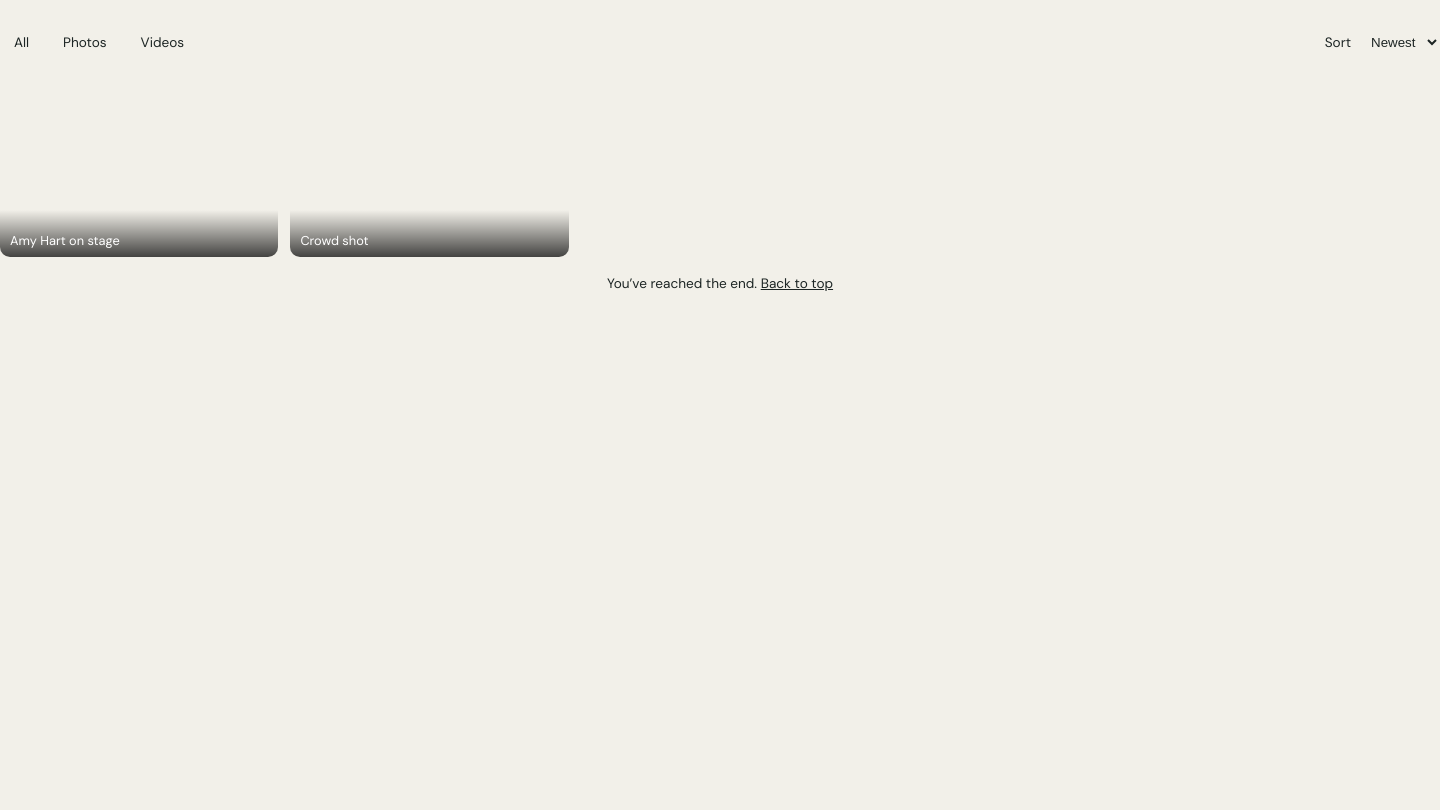
Test case: Lightbox (via MediaGallery) › shows Share + Download for photos, and disabled reactions/comments
Click the button with aria-label "Amy on stage photo": (139, 164) [0, 71, 278, 257]
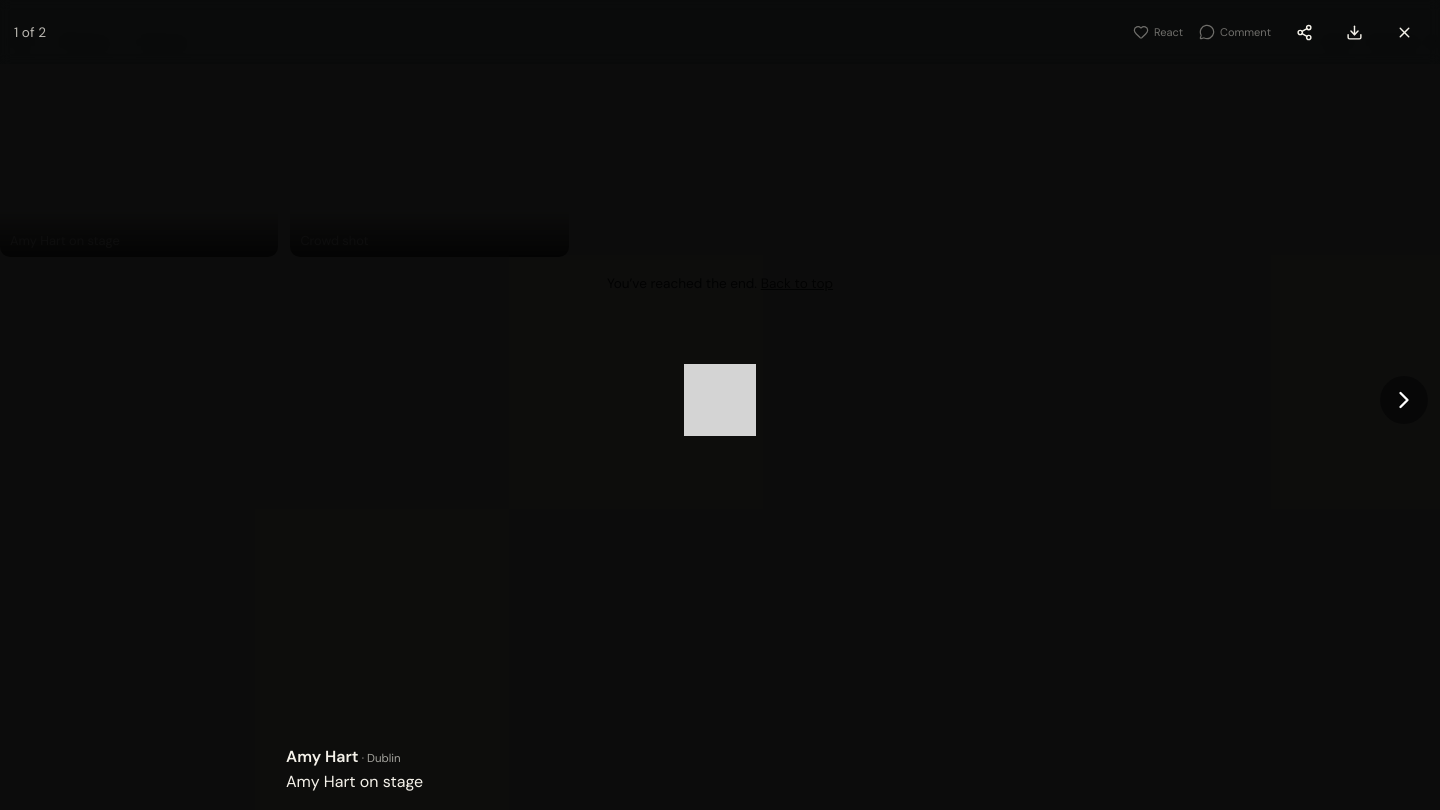
Expected: the button "React" is disabled, [1128, 19, 1188, 45]
Expected: the button "Comment" is disabled, [1194, 19, 1276, 45]
Click the button named "Share": (1304, 32) [1282, 10, 1326, 54]
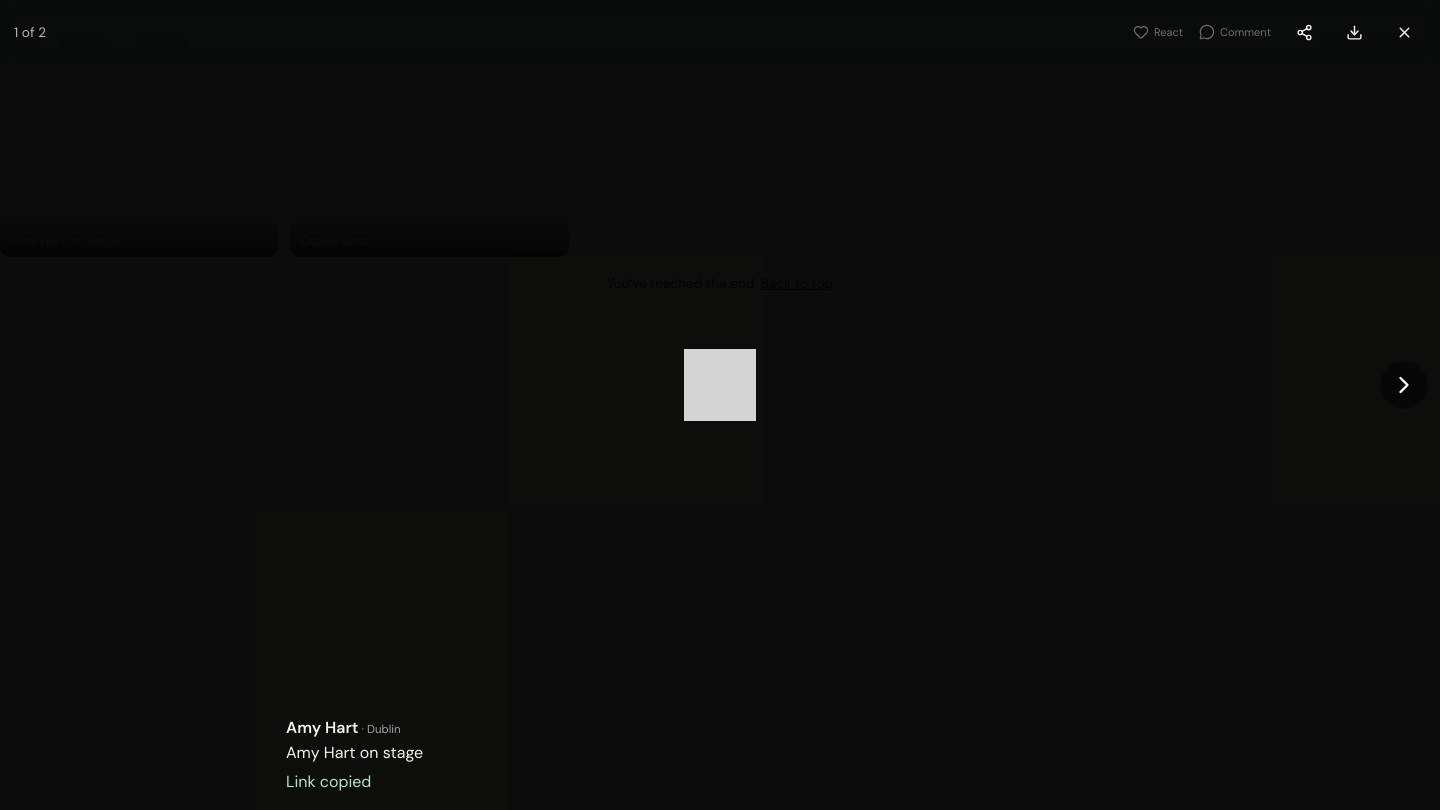
Expected: the dialog named "Amy on stage photo" is shown
Expected: the text "Link copied" is shown, [286, 771, 371, 792]
